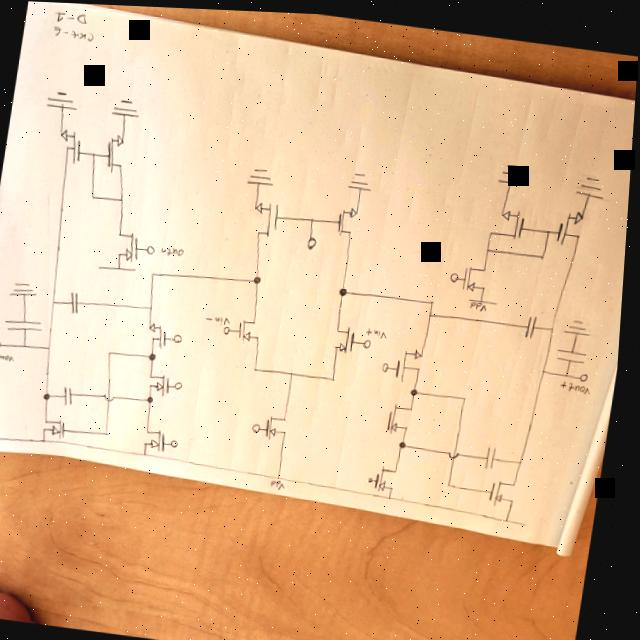capacitor: (6, 315, 49, 334), (556, 340, 591, 360), (489, 438, 504, 466), (527, 308, 542, 335), (70, 288, 85, 313), (65, 383, 80, 406)
crossover: (106, 389, 121, 401), (451, 444, 467, 455)
ground: (575, 167, 610, 194), (44, 87, 81, 110), (246, 161, 279, 186), (497, 156, 528, 181), (111, 96, 144, 118), (565, 310, 597, 331), (10, 278, 43, 298), (347, 167, 376, 189)
junction: (339, 280, 350, 293), (254, 271, 266, 282), (546, 219, 556, 230), (403, 435, 412, 445), (47, 390, 56, 400), (414, 383, 423, 392), (152, 350, 161, 359), (150, 393, 159, 401), (107, 427, 116, 435), (91, 192, 99, 200), (152, 268, 160, 276), (451, 476, 459, 484), (509, 511, 517, 519), (146, 448, 154, 456), (49, 343, 57, 350), (541, 248, 549, 255), (334, 372, 342, 379), (543, 362, 551, 369), (466, 389, 473, 397), (487, 241, 494, 249), (292, 367, 299, 375), (151, 302, 158, 310), (53, 297, 60, 305), (567, 364, 574, 372), (489, 223, 496, 231), (110, 347, 117, 354), (120, 194, 127, 201), (256, 363, 263, 370), (310, 213, 317, 220), (430, 306, 437, 313), (92, 149, 99, 156), (25, 342, 32, 349), (521, 454, 528, 460), (47, 436, 53, 443), (433, 294, 439, 300), (280, 471, 286, 476), (393, 491, 398, 495)
terminal: (99, 261, 139, 272), (469, 291, 503, 302), (308, 232, 320, 247), (383, 357, 395, 369), (0, 431, 12, 443), (451, 267, 462, 278), (365, 334, 376, 345), (583, 366, 594, 377), (176, 331, 186, 343), (174, 436, 185, 446), (225, 322, 235, 333), (178, 378, 188, 388), (256, 420, 266, 429), (148, 244, 158, 252), (0, 340, 8, 349), (527, 514, 535, 523), (372, 471, 380, 479)
text: (562, 373, 596, 389), (206, 310, 234, 325), (157, 243, 187, 256), (368, 322, 393, 335), (471, 294, 493, 307), (0, 351, 20, 363), (275, 475, 292, 487)
transistor: (395, 340, 432, 382), (52, 126, 91, 165), (102, 129, 134, 173), (251, 195, 286, 234), (556, 203, 591, 242), (386, 398, 423, 432), (333, 199, 364, 238), (459, 256, 493, 290), (492, 470, 527, 503), (114, 226, 146, 261), (235, 311, 268, 344), (141, 421, 176, 452), (333, 318, 363, 354), (377, 459, 409, 492), (499, 202, 529, 235), (266, 408, 297, 439), (147, 316, 174, 348), (45, 413, 77, 439), (150, 368, 179, 395)
